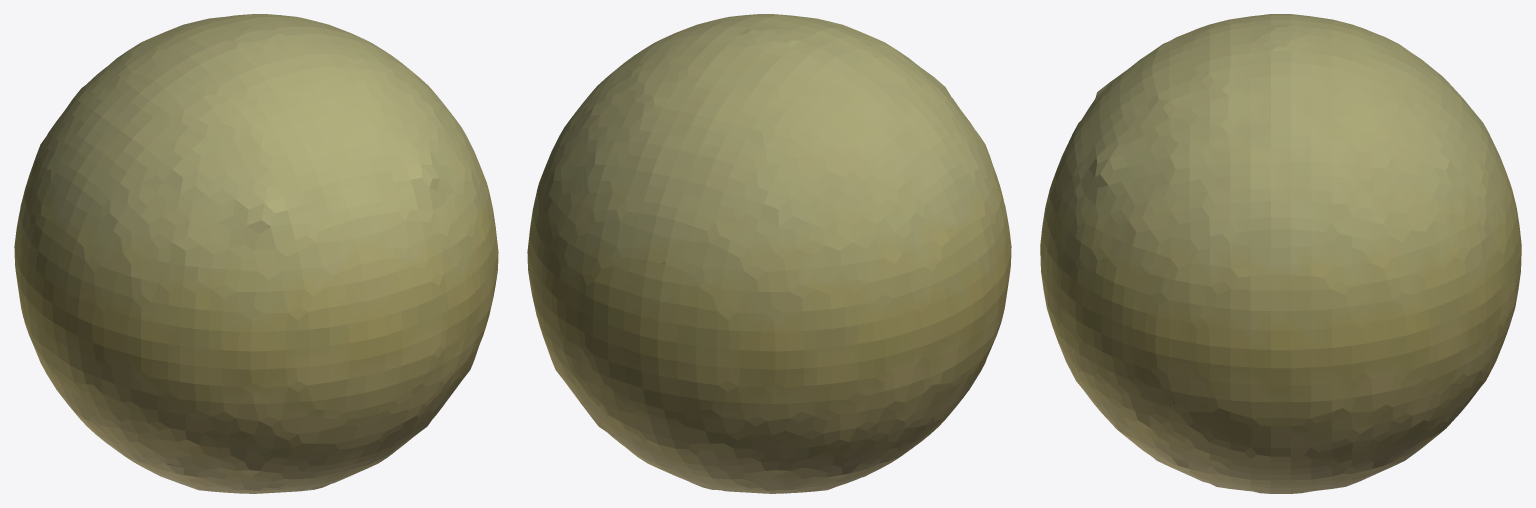
Rendered from metalSlime.glb.
3 renders of one model, left to right at view 1: azimuth 30°, elevation 25°; view 2: azimuth 150°, elevation 25°; view 3: azimuth 270°, elevation 25°, orthographic.
Parts seen in each view (by area): view 1: geometry_0; view 2: geometry_0; view 3: geometry_0.
Boxes of the visible parts, x1,y1,x2,y2 form: geometry_0: [14, 14, 498, 493]; geometry_0: [527, 14, 1011, 493]; geometry_0: [1040, 14, 1521, 493].
Size of the model in its own units: 1.02 by 0.9937 by 1.02.
1 material, 1 textured.
